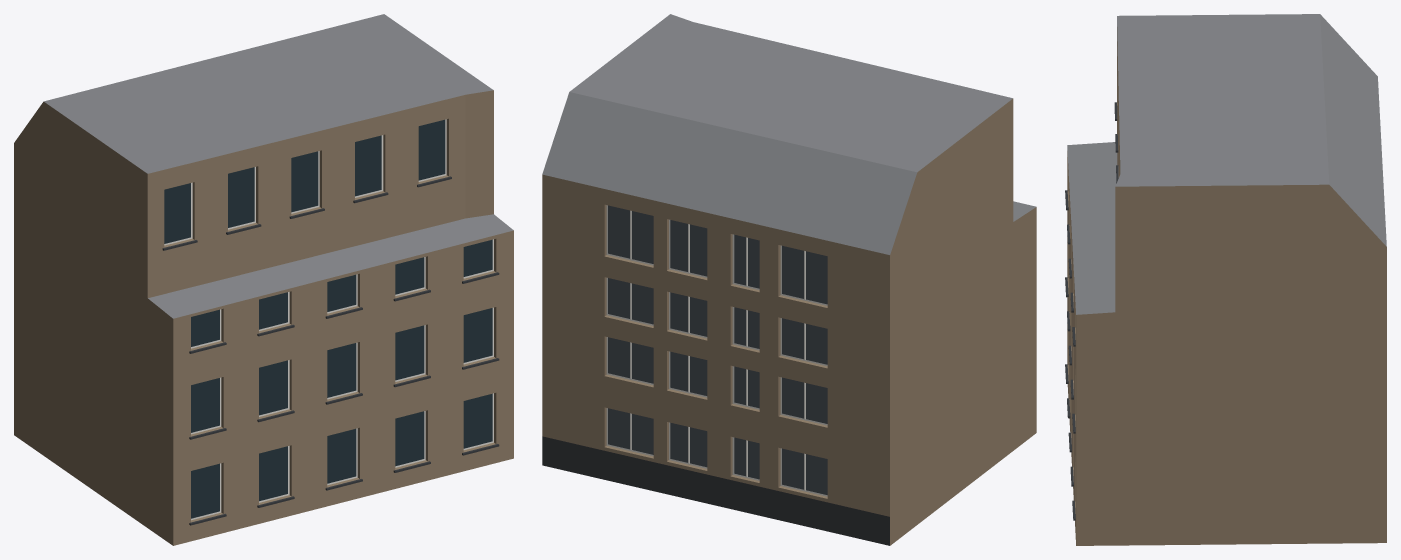
Rendered from recipe-large-haarlemmerweg-73-084332.glb.
The picture shows the model from 3 angles, left to right: view 1: azimuth 30°, elevation 25°; view 2: azimuth 150°, elevation 25°; view 3: azimuth 270°, elevation 25°; orthographic projection.
Visible parts, largest first — view 1: haarlemmerweg-73-084332; view 2: haarlemmerweg-73-084332; view 3: haarlemmerweg-73-084332.
Boxes of the visible parts, x1=… form: haarlemmerweg-73-084332: x1=14, y1=14, x2=513, y2=545; haarlemmerweg-73-084332: x1=542, y1=14, x2=1036, y2=545; haarlemmerweg-73-084332: x1=1065, y1=14, x2=1386, y2=545.
Bounding box in the file's own units: 16.53 × 15.94 × 12.95.
